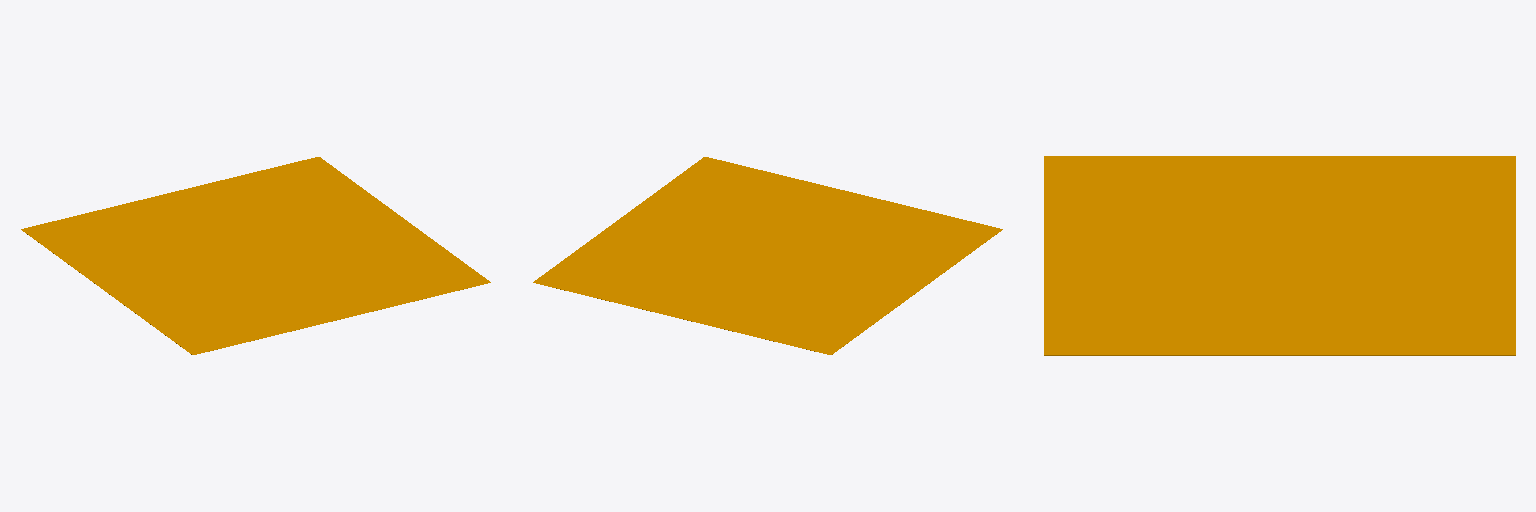
URDF robot description (region):
<?xml version="1.0"?>
<robot name="region">
  <material name="Wood">
    <color rgba="0.827, 0.675, 0.463, 1.0"/>
  </material>
  <material name="LightWood">
    <color rgba="0.992, 0.871, 0.682, 1.0"/>
  </material>
  <material name="Metal">
    <color rgba="0.718, 0.753, 0.749, 1.0"/>
  </material>
  <link name="base_link">
    <visual>
      <origin xyz="0 0 0" rpy="0 0 0" />
      <geometry>
        <box size="0.2 0.2 0.00005" />
      </geometry>
      <material name="Wood"/>
    </visual>
    <collision>
      <origin xyz="0 0 0" rpy="0 0 0" />
      <geometry>
        <box size="0.2 0.2 0.005" />
      </geometry>
    </collision>
  </link>
</robot>

--- Facts derived from the render (not from the file) ---
3 views of the same robot in one strip: view 1: azimuth 30°, elevation 25°; view 2: azimuth 150°, elevation 25°; view 3: azimuth 270°, elevation 25° (orthographic).
Robot: region — 1 links, 0 joints (none); root link base_link; default pose: every joint at zero.
Links seen in each view (by area): view 1: base_link; view 2: base_link; view 3: base_link.
Link boxes in pixels (x1,y1,x2,y2): base_link: (21,157,490,354); base_link: (533,157,1002,354); base_link: (1044,156,1515,355).
Bounding box of the posed robot: 0.2 × 0.2 × 0 m (x, y, z).
Geometry: primitives only (box / cylinder / sphere), no mesh files.
